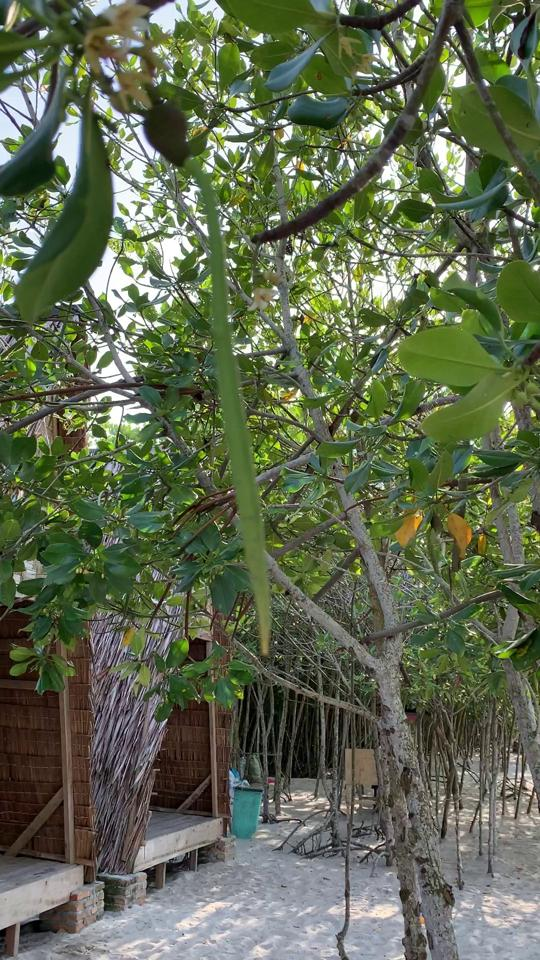mentah: (127, 78, 300, 664)
